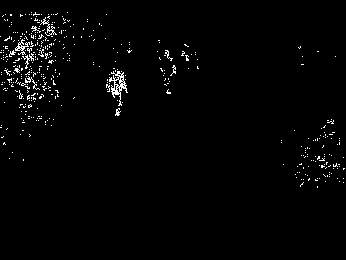person: (105, 67, 128, 117), (155, 48, 177, 96)
